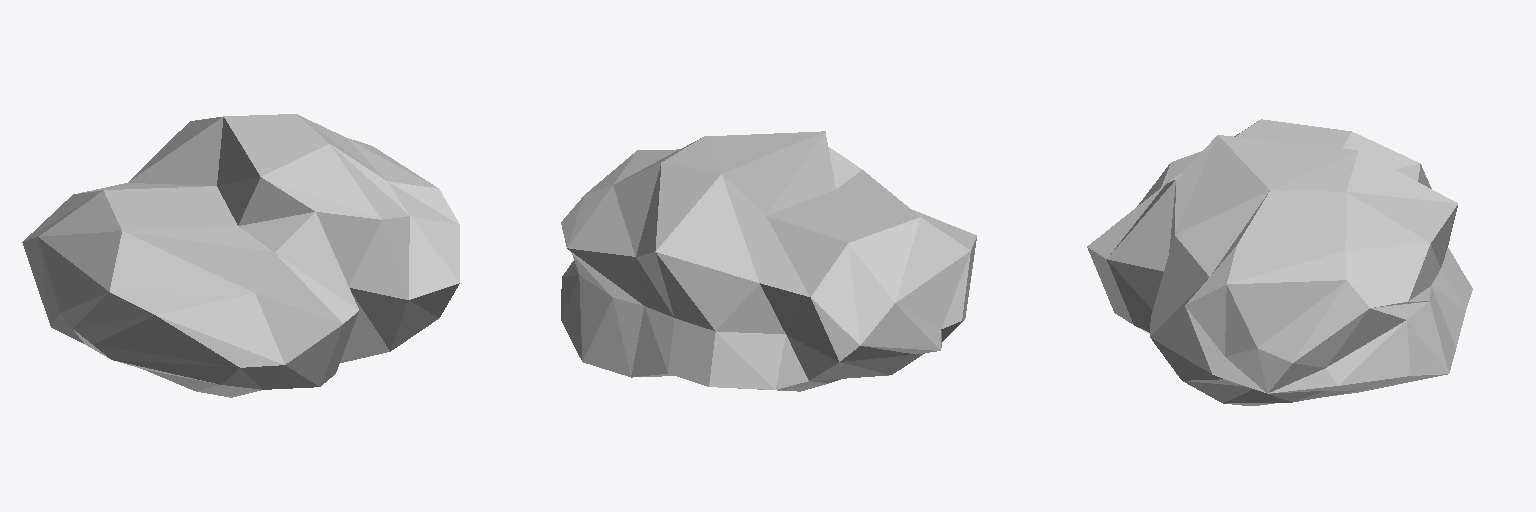
File: rock_10m.obj
3 views of the same model, side by side, from view 1: azimuth 30°, elevation 25°; view 2: azimuth 150°, elevation 25°; view 3: azimuth 270°, elevation 25° (orthographic).
Visible parts, largest first — view 1: Cylinder02; view 2: Cylinder02; view 3: Cylinder02.
Boxes of the visible parts, <box> form: Cylinder02: <box>22,114,459,397</box>; Cylinder02: <box>561,131,976,391</box>; Cylinder02: <box>1087,119,1472,405</box>.
Size of the model in its own units: 29.36 by 16.19 by 25.97.